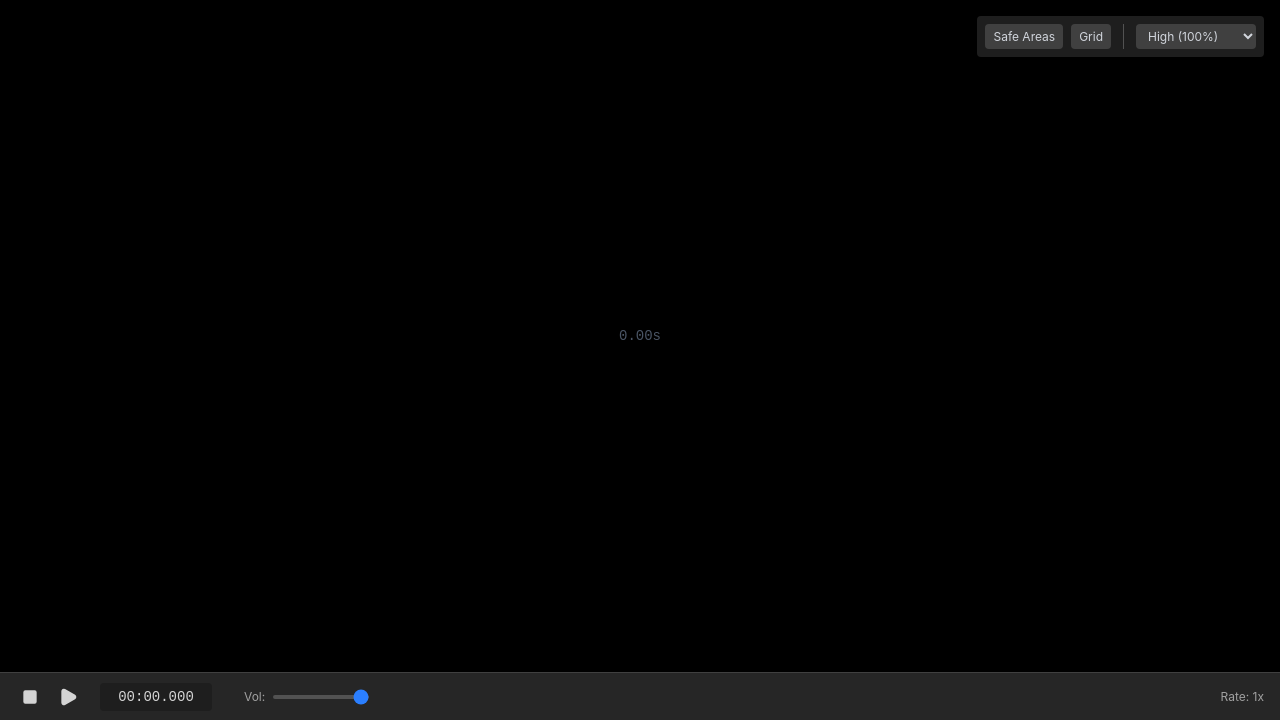
Test case: PreviewAdvanced Integration › Safe Area Guides › toggles safe area guides on button click
This screenshot has width=1280, height=720.
// Click Toggle Button
Click the button titled "Toggle Safe Areas". click: (1024, 36)
box: [986,24,1063,49]
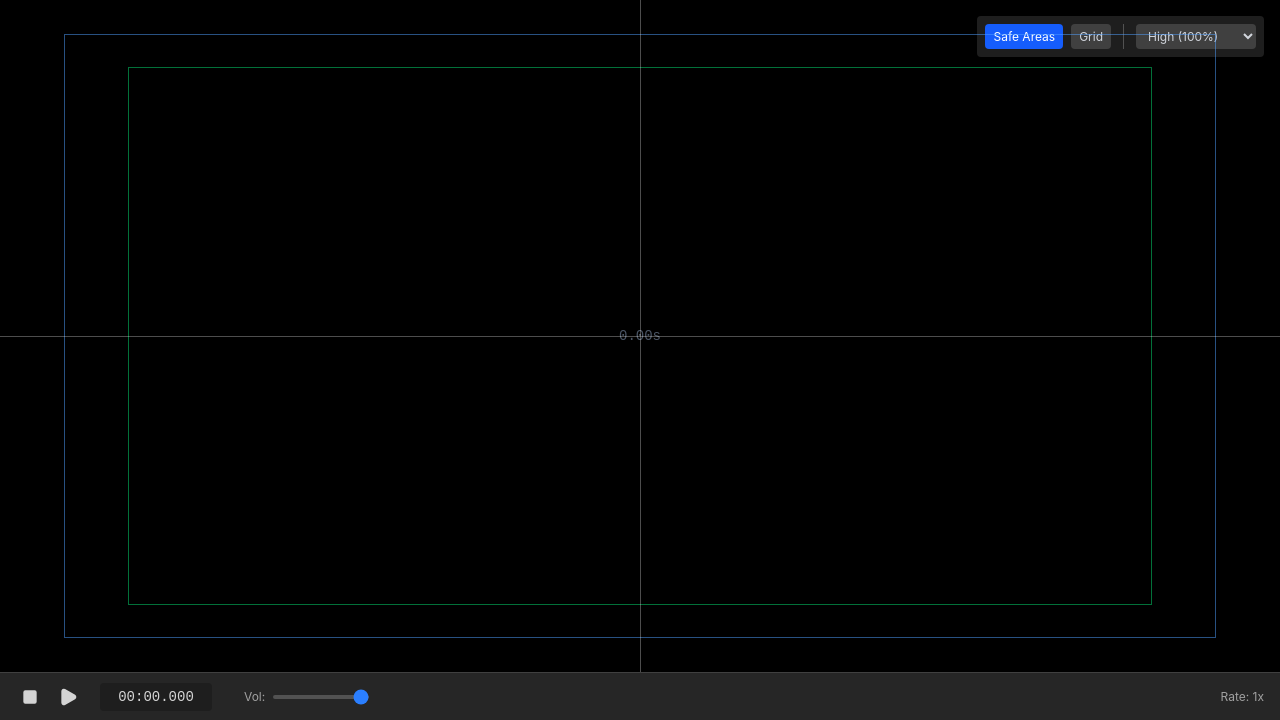
Check: the element with test id "guide-action-safe" is shown
Check: the element with test id "guide-title-safe" is shown, box [128,67,1152,605]
// Click again to hide
Click the button titled "Toggle Safe Areas". click: (1024, 36)
box: [986,24,1063,49]
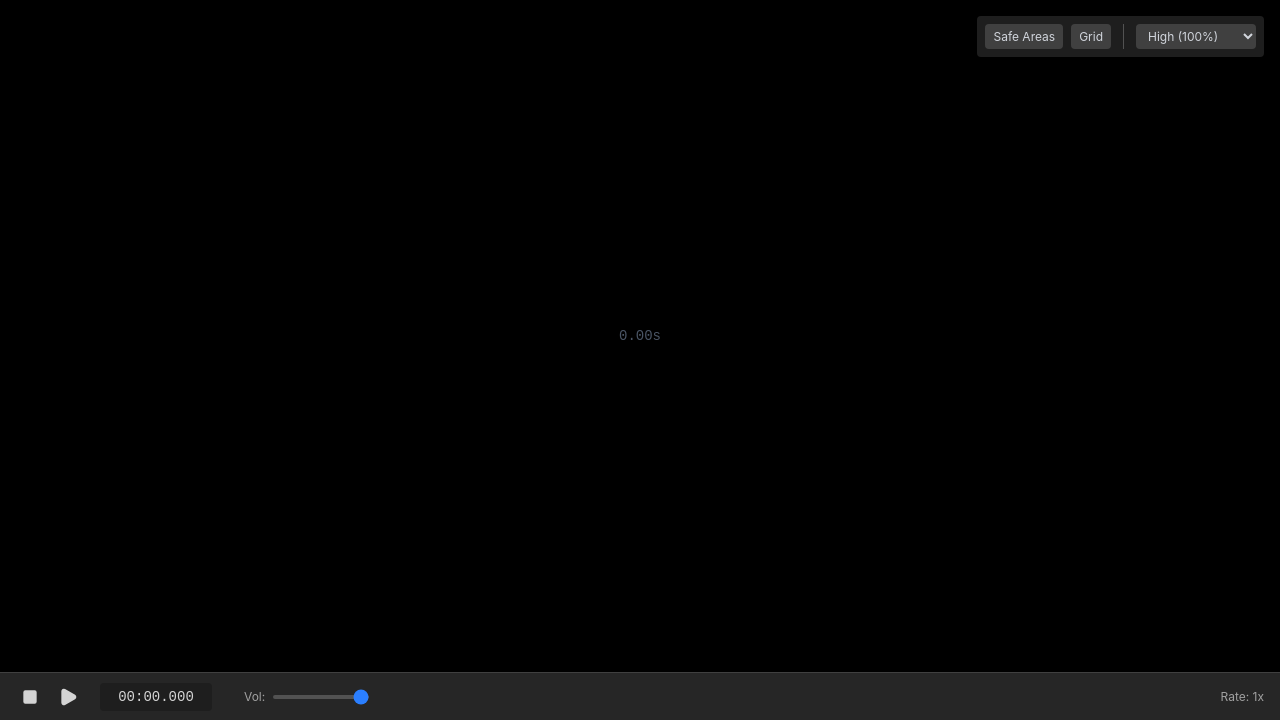
Check: the element with test id "guide-action-safe" is gone
